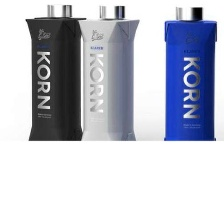carton: (78, 2, 150, 144), (18, 1, 86, 143), (159, 5, 220, 144)
